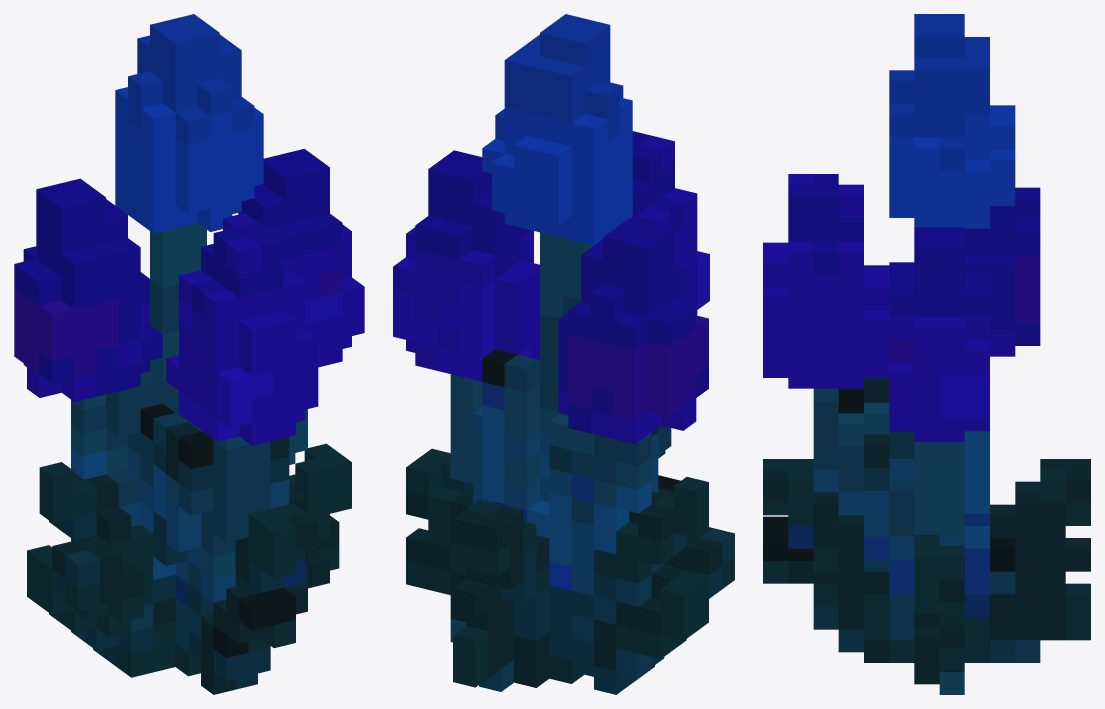
Rendered from overseer-plant-2-named-nodes.glb.
The picture shows the model from 3 angles, left to right: view 1: azimuth 30°, elevation 25°; view 2: azimuth 150°, elevation 25°; view 3: azimuth 270°, elevation 25°; orthographic projection. The views are drawn at different scales.
Visible parts, largest first — view 1: geometry_0; view 2: geometry_0; view 3: geometry_0.
Boxes of the visible parts, <box> form: geometry_0: <box>14,14,364,694</box>; geometry_0: <box>393,14,734,694</box>; geometry_0: <box>763,14,1090,694</box>.
Size of the model in its own units: 0.4884 by 1.01 by 0.4884.
1 material, 1 textured.
